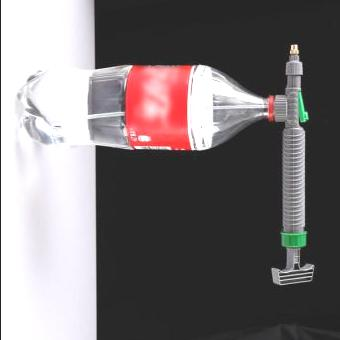bottle: (16, 65, 286, 151)
